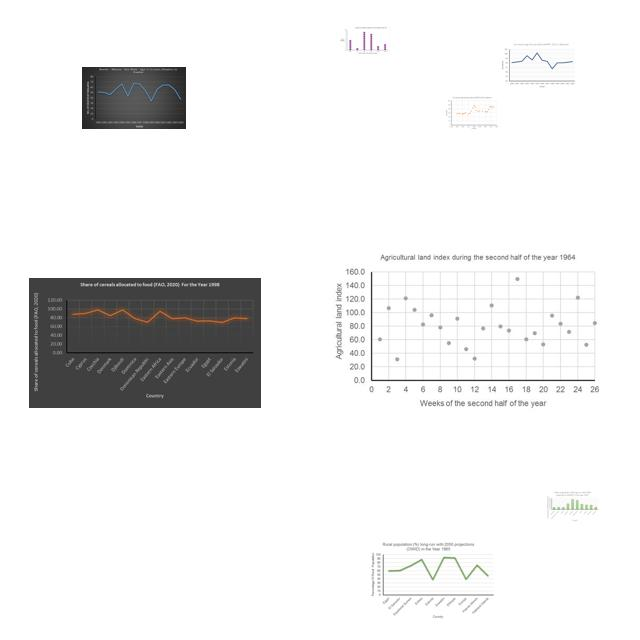Graph: (332, 250, 601, 411), (29, 278, 261, 408), (368, 540, 496, 620), (82, 67, 186, 129), (500, 43, 577, 88), (445, 96, 499, 129), (546, 491, 599, 522), (339, 26, 390, 55)
